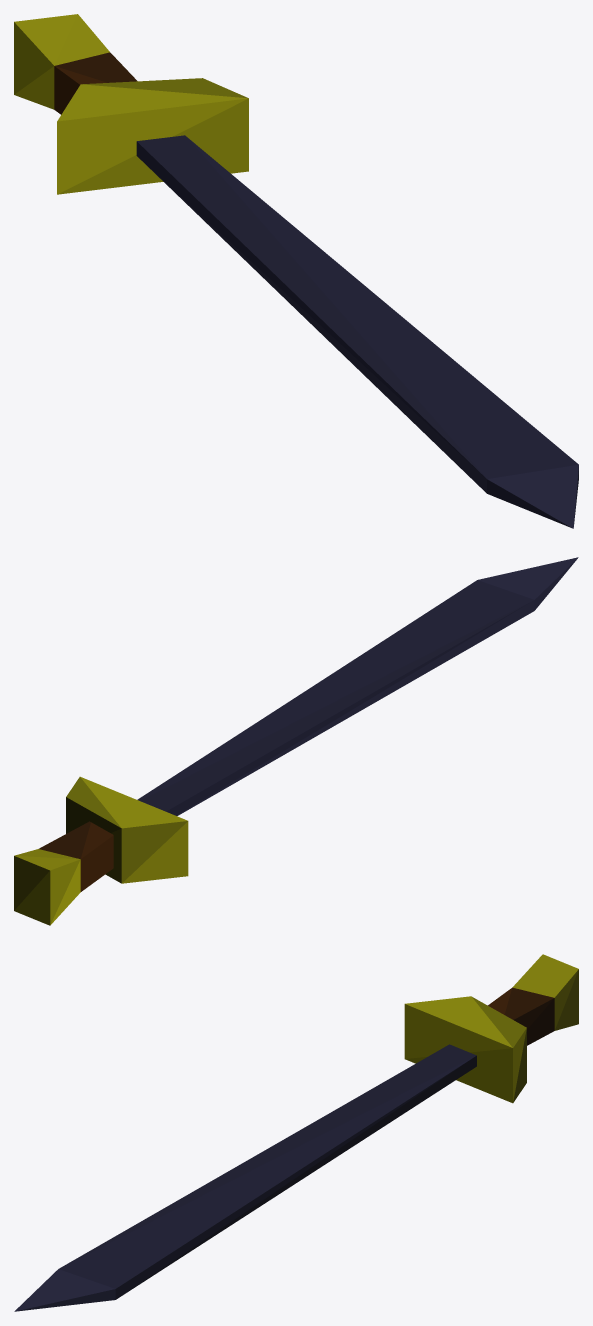
Rendered from mithril-sword.obj.
The picture shows the model from 3 angles, top to bottom: view 1: azimuth 30°, elevation 25°; view 2: azimuth 150°, elevation 25°; view 3: azimuth 330°, elevation 25°; orthographic projection. The views are drawn at different scales.
Parts seen in each view (by area): view 1: Item Mithril sword 2026-09-24_13-26-15; view 2: Item Mithril sword 2026-09-24_13-26-15; view 3: Item Mithril sword 2026-09-24_13-26-15.
Boxes of the visible parts, bbox=[...] form: Item Mithril sword 2026-09-24_13-26-15: bbox=[14, 14, 578, 528]; Item Mithril sword 2026-09-24_13-26-15: bbox=[14, 557, 578, 925]; Item Mithril sword 2026-09-24_13-26-15: bbox=[14, 954, 578, 1311].
Bounding box in the file's own units: 13 × 5 × 78.
